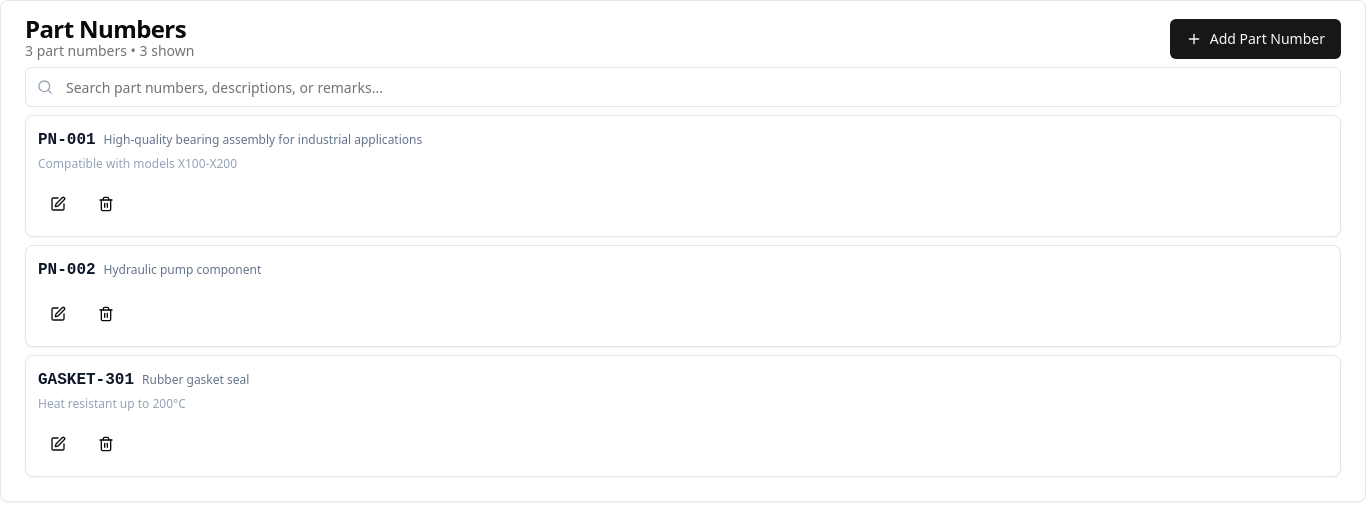
Test: PartNumbersList › filters part numbers by part number
The image size is (1366, 519).
Type "PN-001" into the field with placeholder "Search part numbers, descriptions, or remarks..." at (683, 87), box [25, 67, 1341, 107]
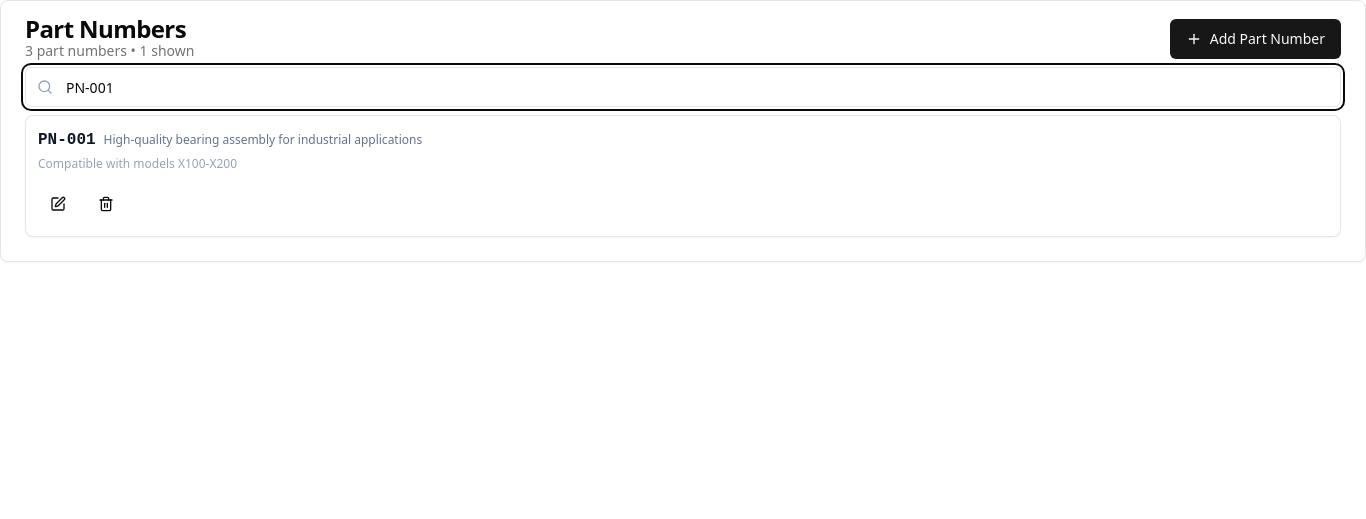
expect the text "PN-002" is gone: met
expect the text "GASKET-301" is gone: met
expect the text "3 part numbers • 1 shown" is shown: met, box [25, 41, 194, 61]
